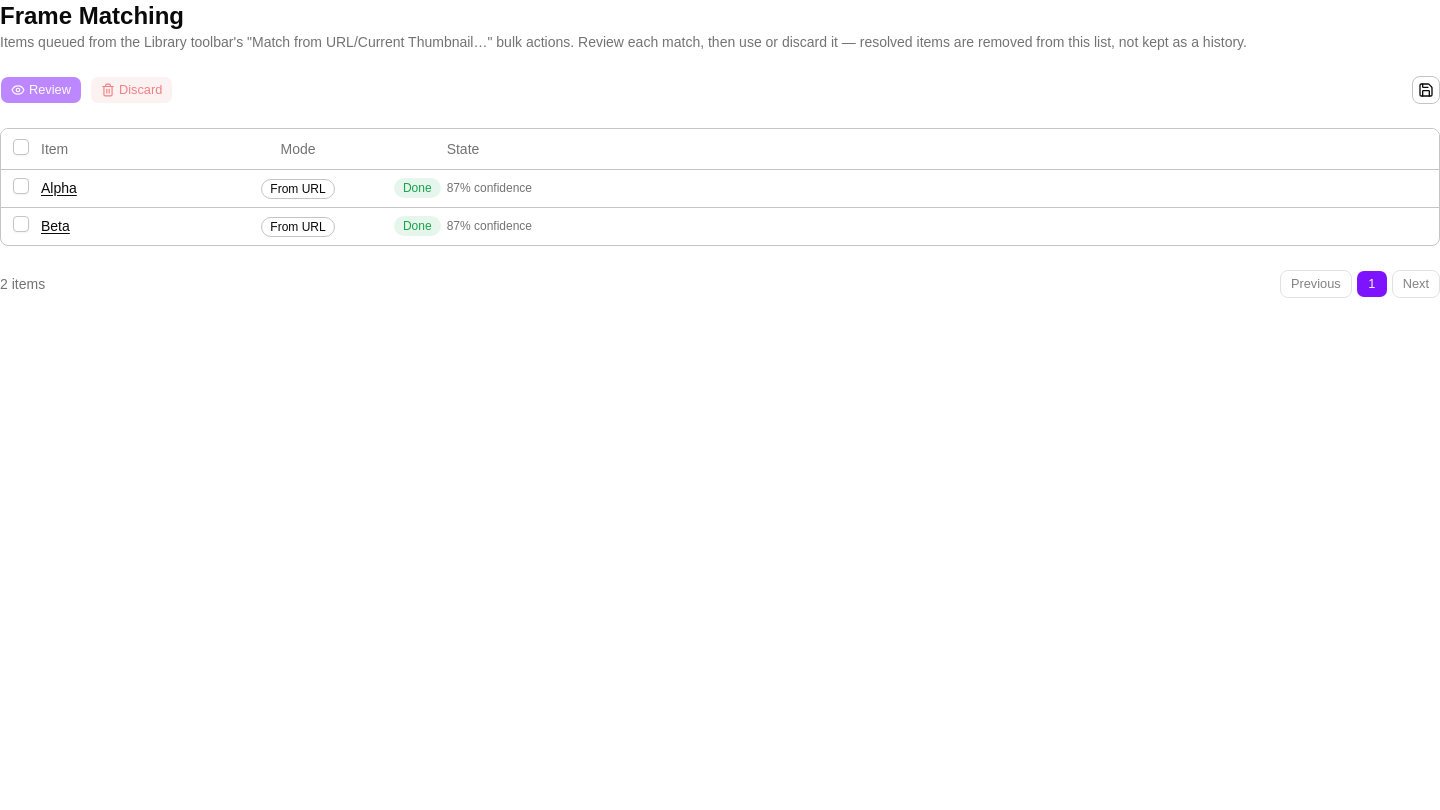
FrameMatchingPage table › Discard is singular for one item
Check: the link "Alpha" is shown, box [41,180,77,196]
Press the mouse on the text "Beta": (298, 226) [1,207,1439,244]
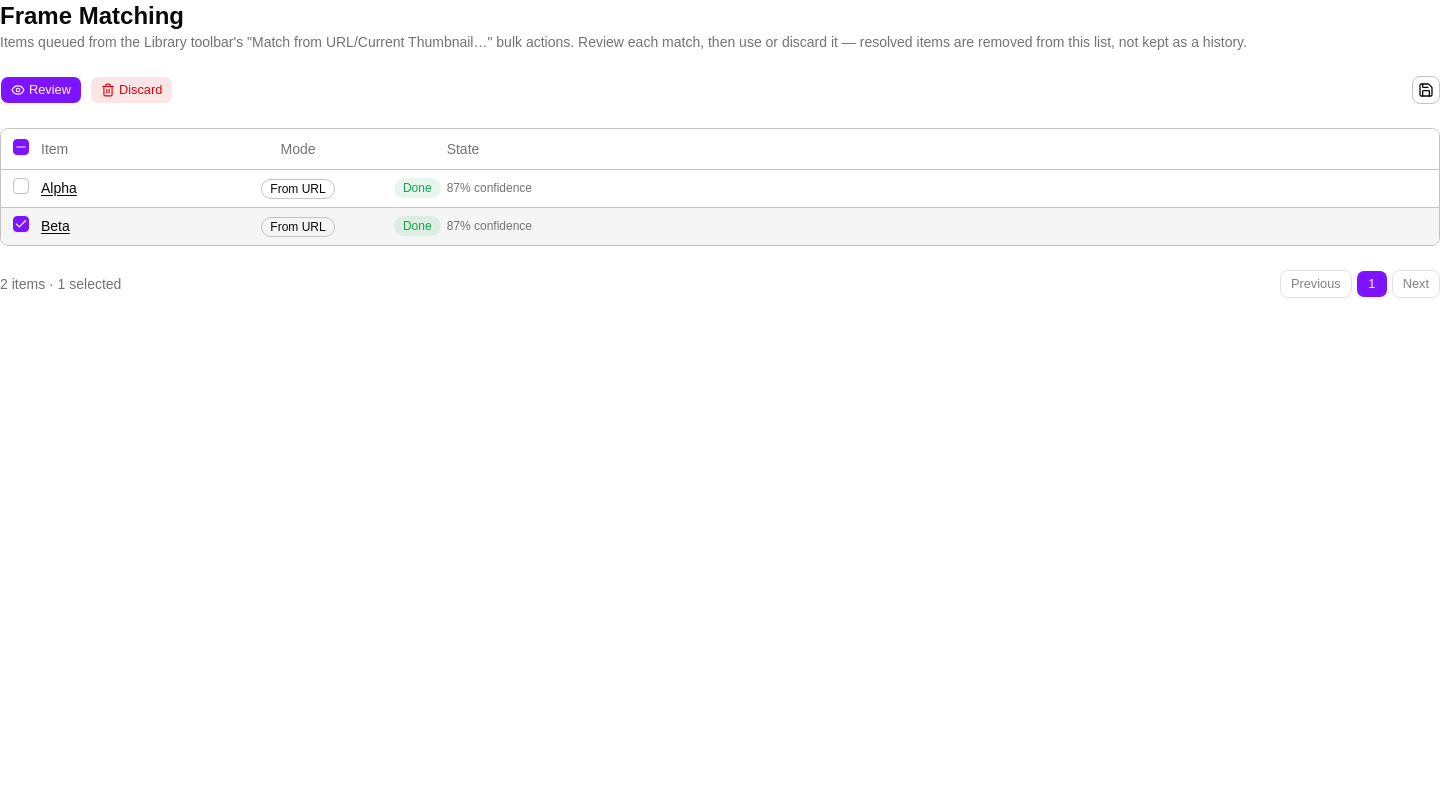
Click the button "Discard": (132, 90) [90,76,173,104]
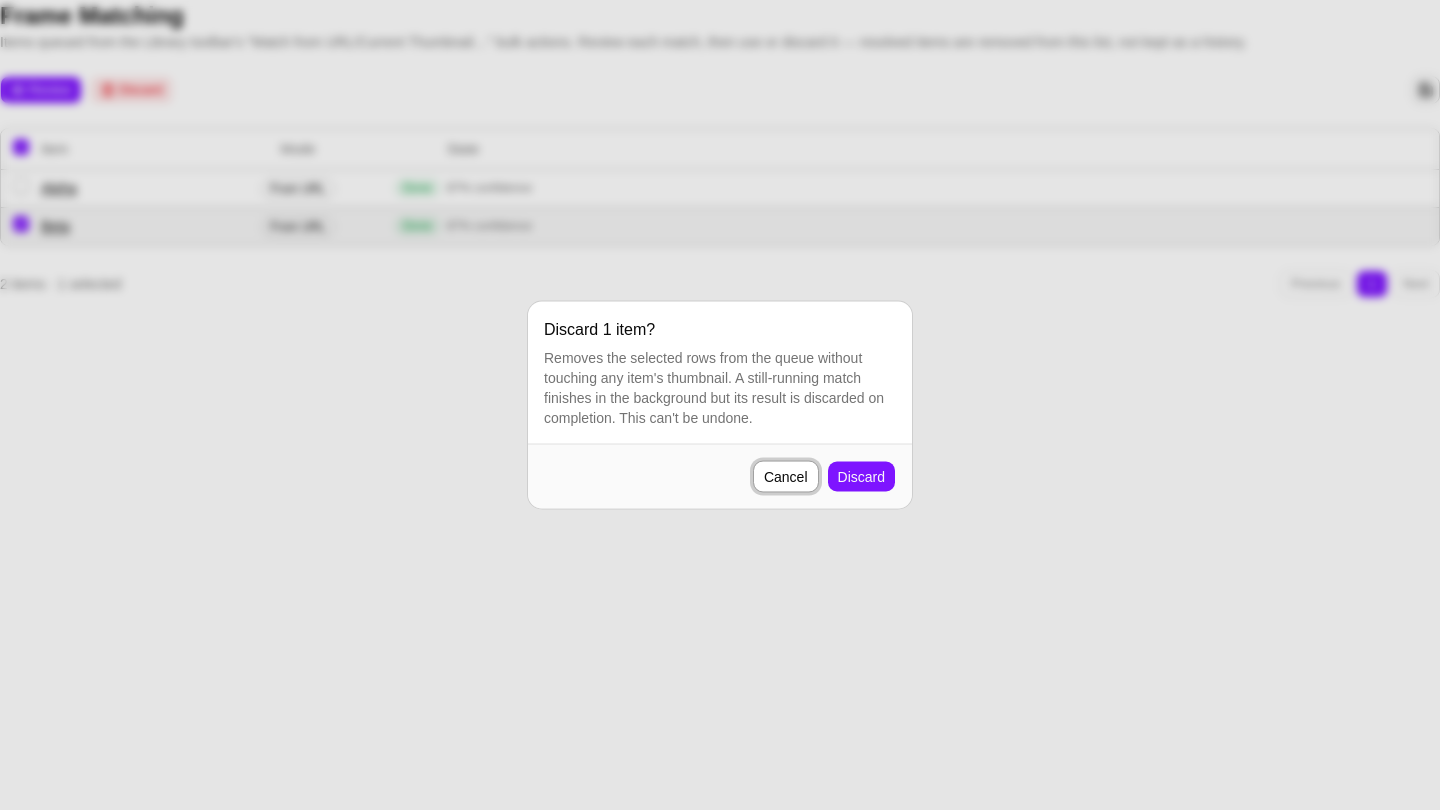
Check: the heading "Discard 1 item?" is shown, box [544,318,655,342]
